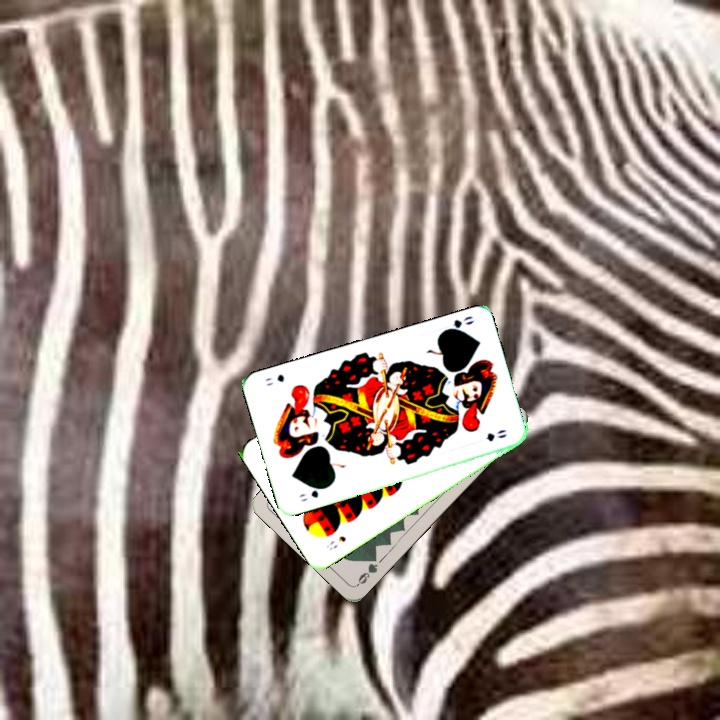G9: (353, 551, 380, 588)
GO: (438, 312, 477, 335), (295, 483, 330, 504)
S8: (322, 532, 348, 552)
